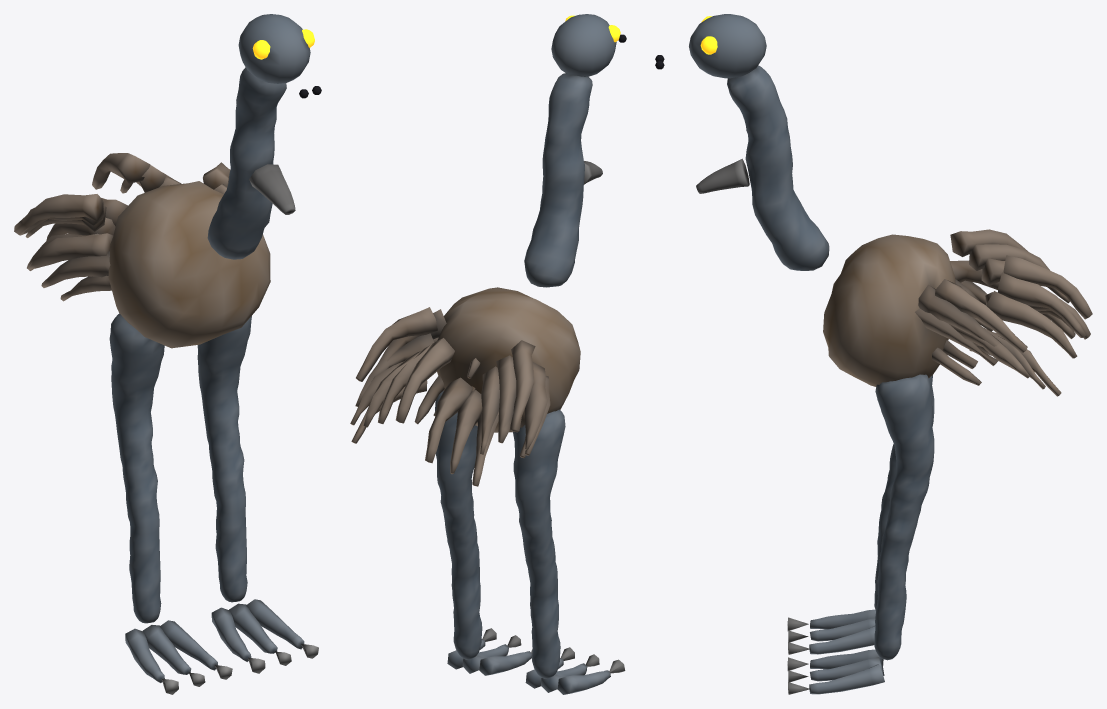
3 renders of one model, left to right at view 1: azimuth 30°, elevation 25°; view 2: azimuth 150°, elevation 25°; view 3: azimuth 270°, elevation 25°, orthographic. The views are drawn at different scales.
Parts seen in each view (by area): view 1: torso, legR, legL, head; view 2: torso, legR, legL, head; view 3: torso, legL, head, legR.
Boxes of the visible parts, x1,y1,x2,y2 form: torso: (14,67,286,348); legR: (109,313,232,694); legL: (197,316,318,673); head: (238,14,321,214); torso: (350,73,592,486); legR: (513,409,625,694); legL: (435,391,532,675); head: (551,14,626,184); torso: (727,65,1092,396); legL: (787,374,934,694); head: (655,14,766,193); legR: (787,375,934,654).
Size of the model in its own units: 0.3522 by 1.21 by 0.741.
